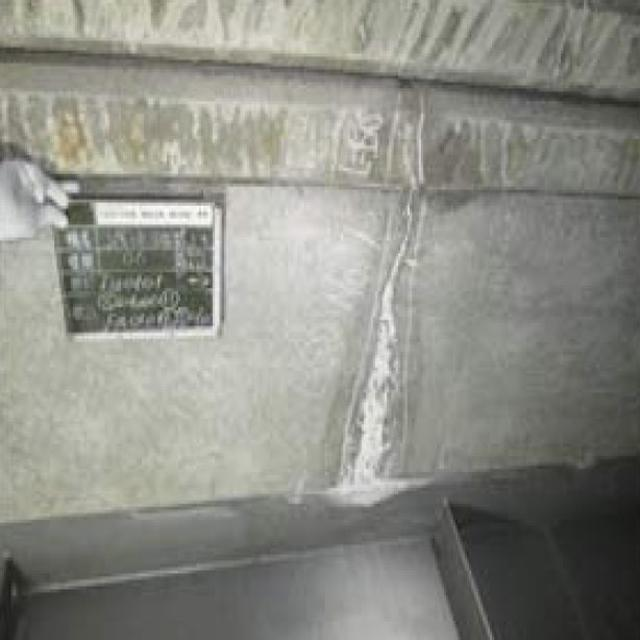freelime: (316, 252, 426, 527)
